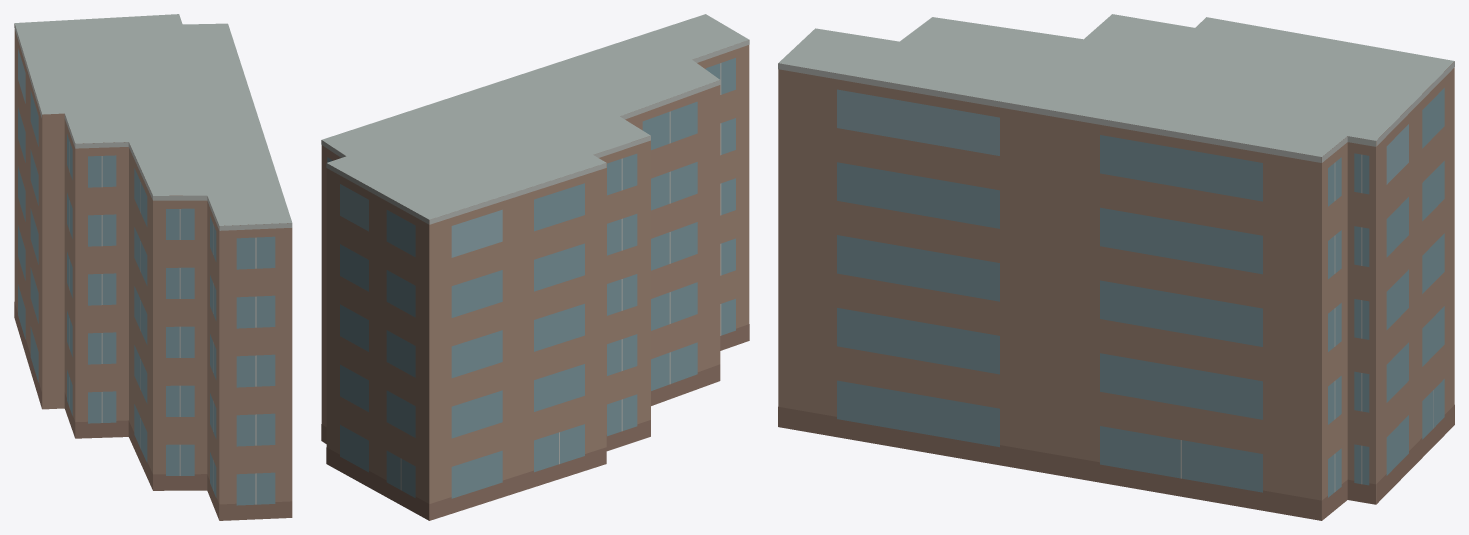
File: survey-upis-32523489.glb
3 views of the same model, side by side, from view 1: azimuth 30°, elevation 25°; view 2: azimuth 150°, elevation 25°; view 3: azimuth 270°, elevation 25° (orthographic). The views are drawn at different scales.
Parts seen in each view (by area): view 1: survey-upis-32523489.tmp; view 2: survey-upis-32523489.tmp; view 3: survey-upis-32523489.tmp.
Part boxes in pixels (x1,y1,x2,y2): survey-upis-32523489.tmp: [14, 14, 292, 520]; survey-upis-32523489.tmp: [321, 14, 749, 520]; survey-upis-32523489.tmp: [778, 14, 1454, 520].
Bounding box in the file's own units: 12.4 × 14.7 × 24.79.
